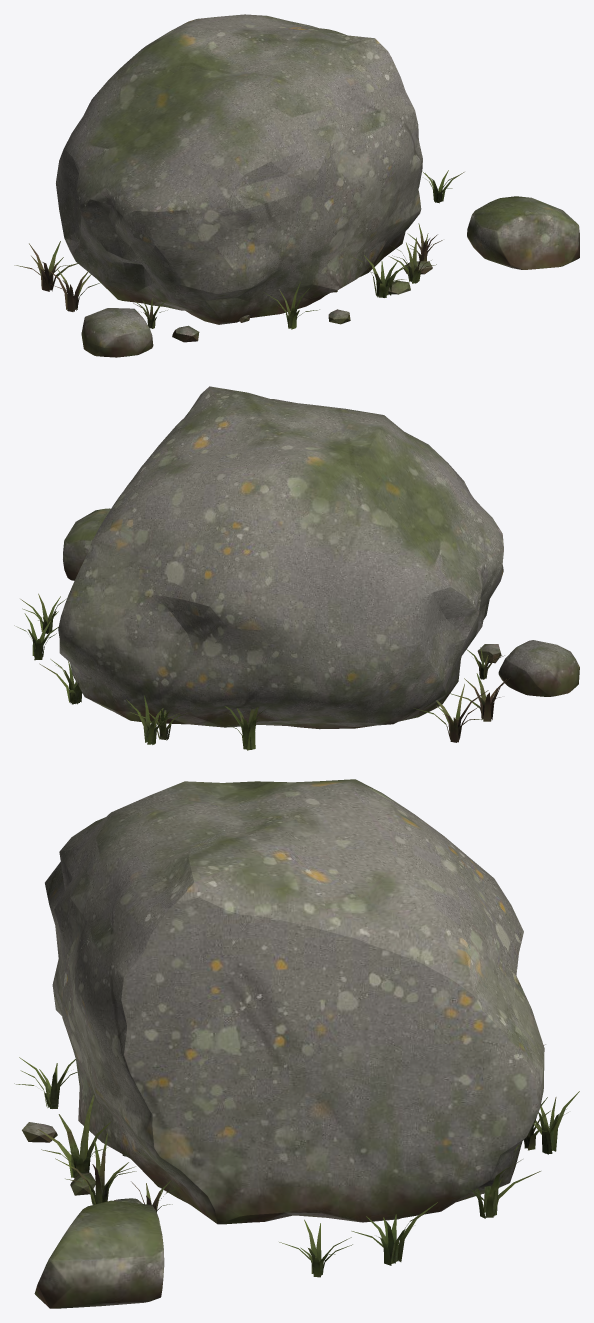
File: boulder_c.glb
The picture shows the model from 3 angles, top to bottom: view 1: azimuth 30°, elevation 25°; view 2: azimuth 150°, elevation 25°; view 3: azimuth 270°, elevation 25°; orthographic projection. The views are drawn at different scales.
Parts seen in each view (by area): view 1: boulder_c_LOD0; view 2: boulder_c_LOD0; view 3: boulder_c_LOD0.
Part boxes in pixels (x1,y1,x2,y2): boulder_c_LOD0: [14, 14, 579, 357]; boulder_c_LOD0: [14, 386, 579, 750]; boulder_c_LOD0: [14, 779, 579, 1308].
Size of what is drawn, in the model's own units: 4.35 by 1.97 by 3.13.
1 material, 1 textured.
